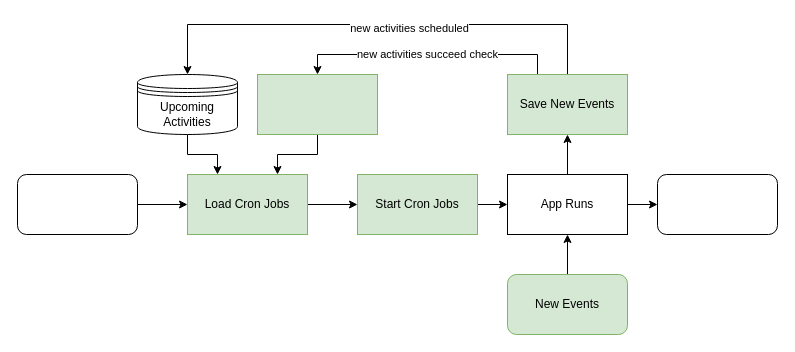
The diagram is 795 pixels wide and 352 high, and some of its shapes have lost their labels. The shapes that lost their labels are listed below. From the top down, each one's centre as x and y in pixels, then its label:
At pixel 317 104: "Periodic Checks".
At pixel 77 204: "App Initializes".
At pixel 717 204: "App Terminates".
